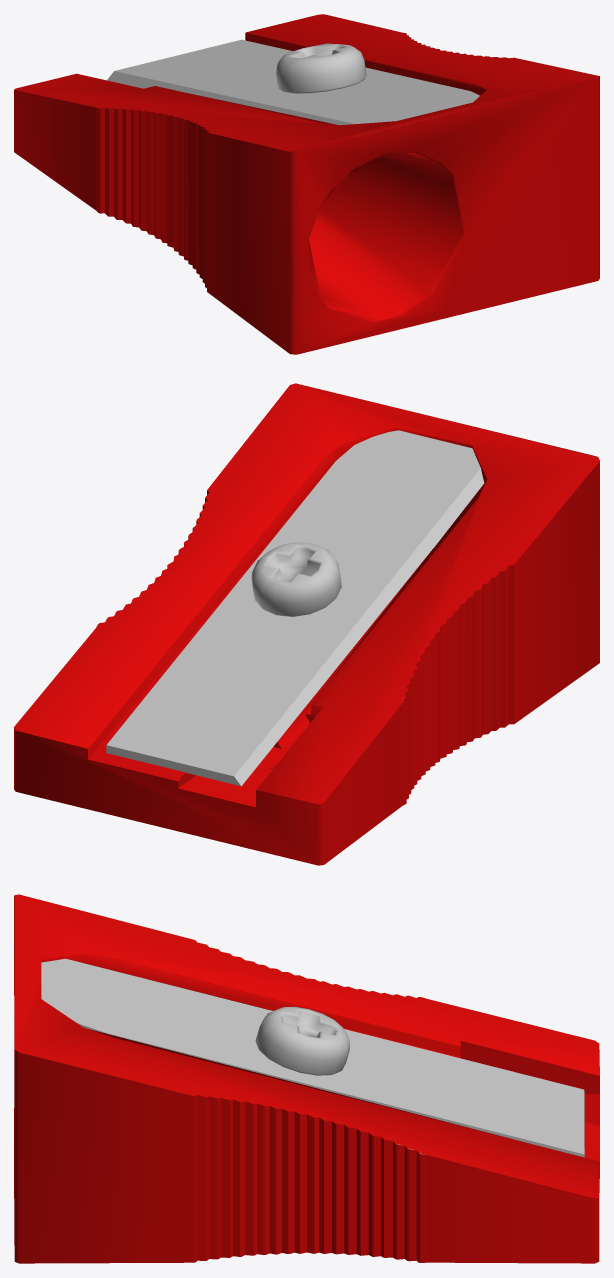
File: sharpener.gltf
3 views of the same model, one above another, from view 1: azimuth 30°, elevation 25°; view 2: azimuth 150°, elevation 25°; view 3: azimuth 270°, elevation 25° (orthographic). The views are drawn at different scales.
Parts seen in each view (by area): view 1: Cube, Cube.005; view 2: Cube, Cube.005; view 3: Cube, Cube.005.
Boxes of the visible parts, <box> form: Cube: <box>14,14,599,354</box>; Cube.005: <box>107,39,479,136</box>; Cube: <box>14,383,599,865</box>; Cube.005: <box>106,430,484,786</box>; Cube: <box>14,894,599,1263</box>; Cube.005: <box>41,958,584,1157</box>.
Bounding box in the file's own units: 0.1595 × 0.1 × 0.25.
